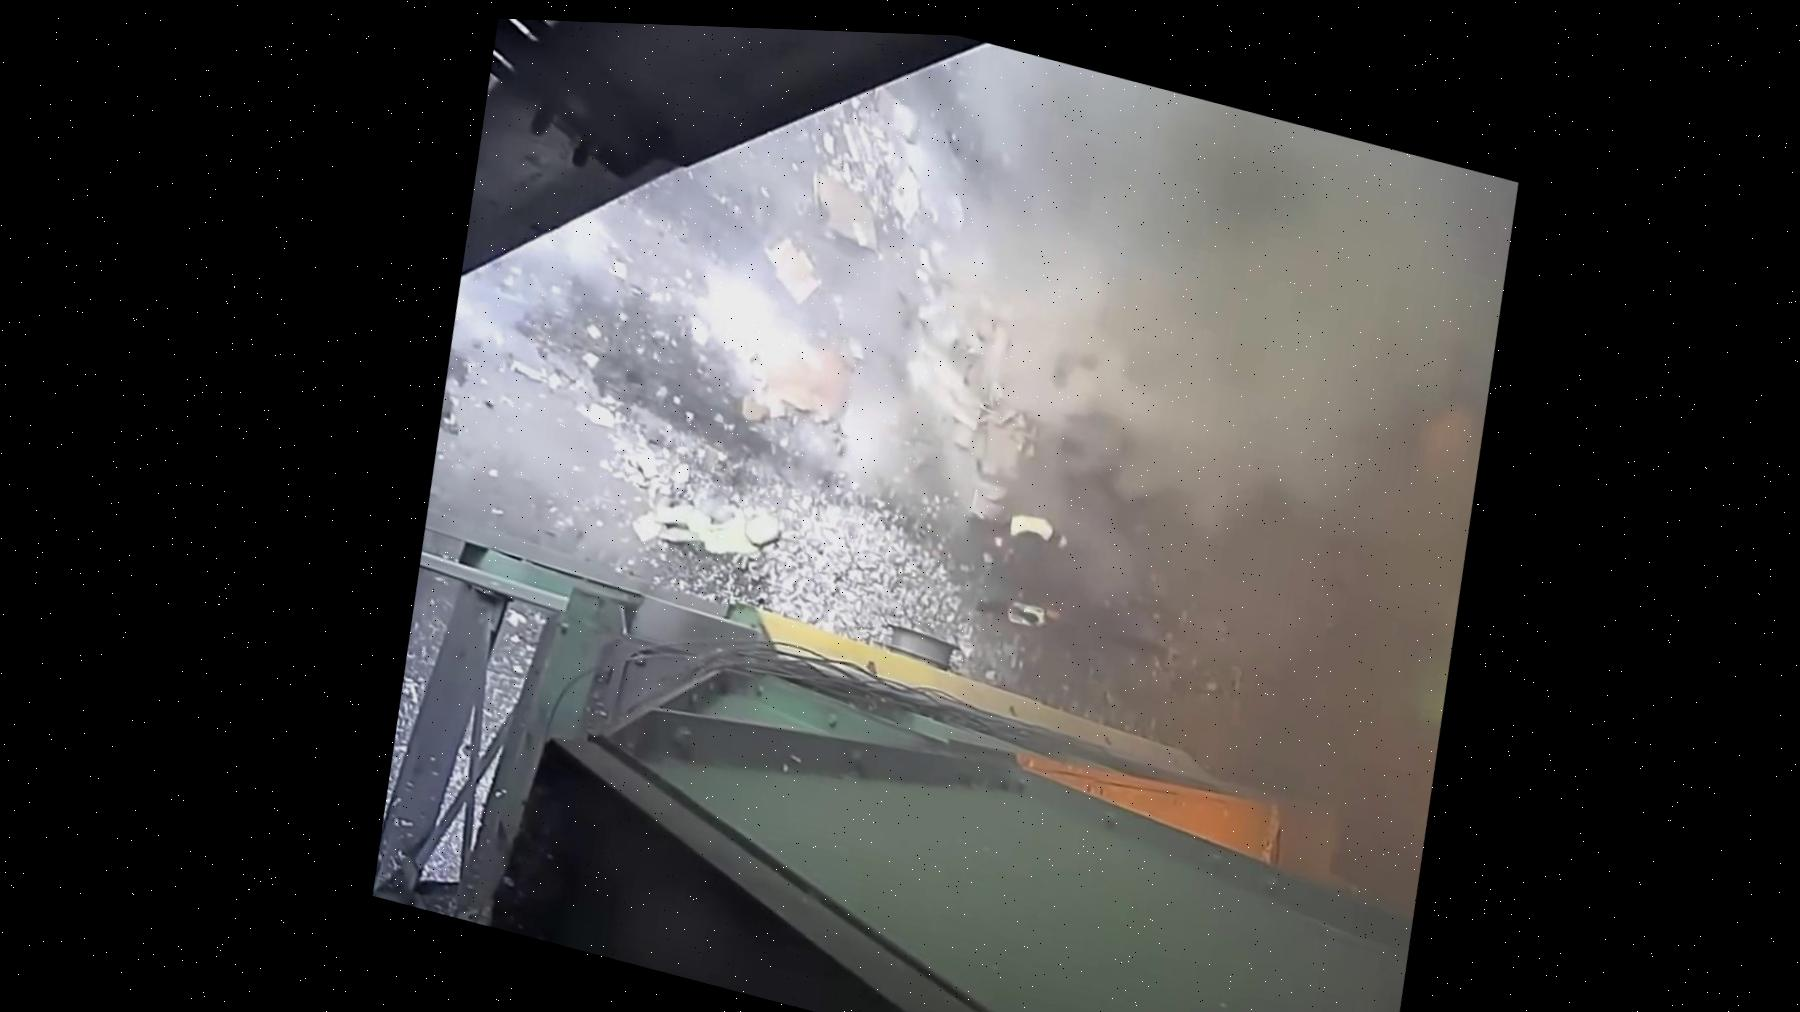smoke: (593, 200, 1280, 557)
